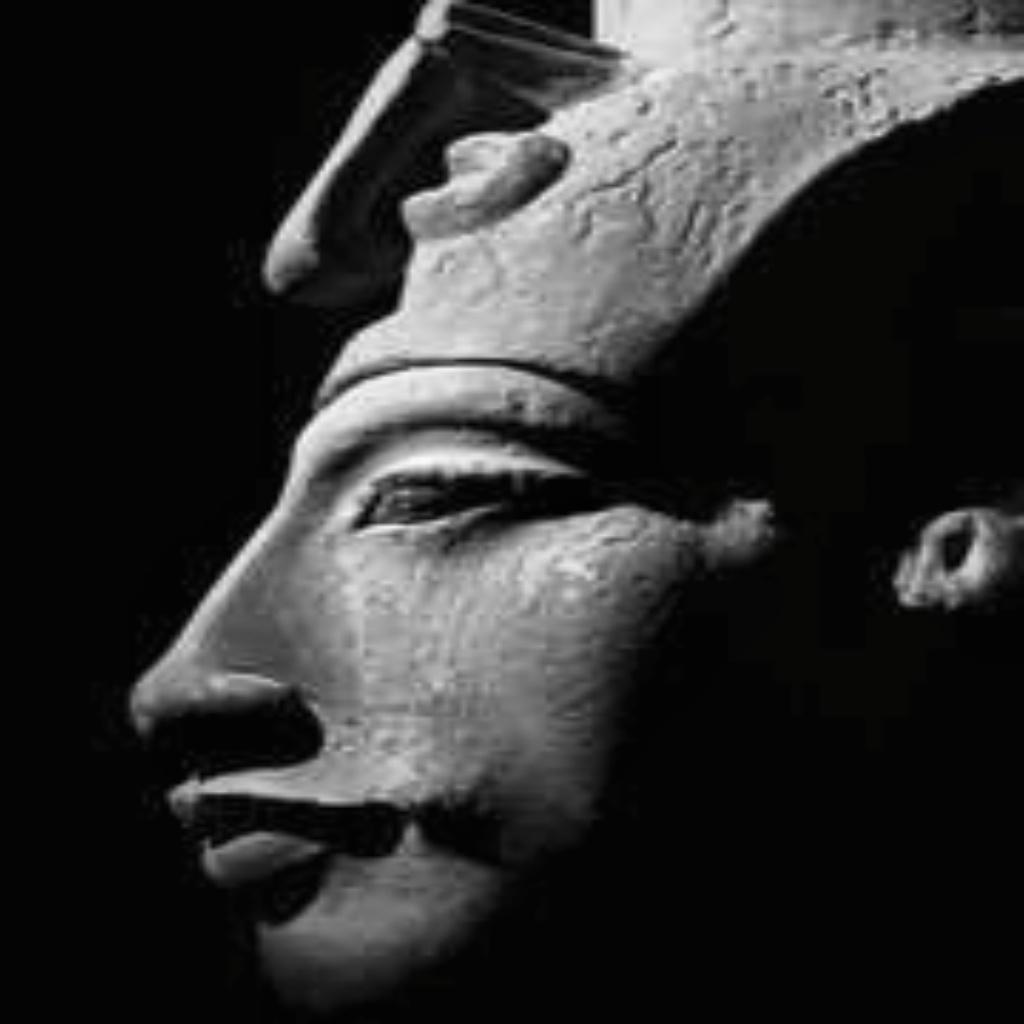Akhenaten: (108, 0, 1018, 1020)
